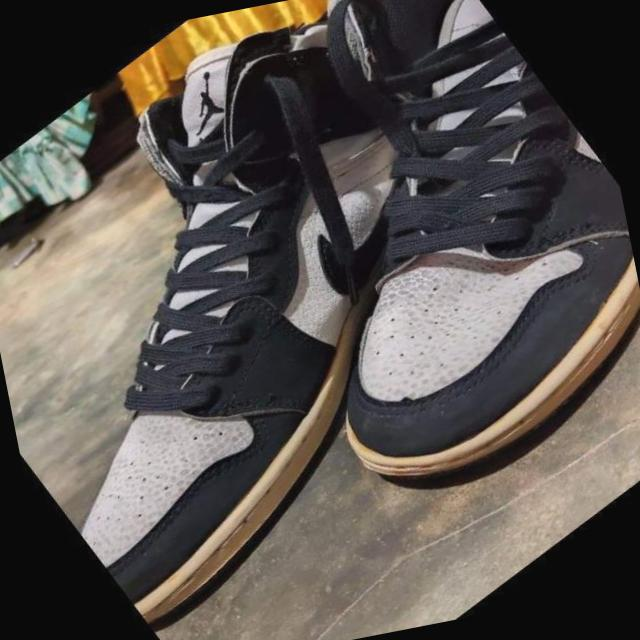nike_fake_jordan: (0, 0, 640, 640), (93, 0, 640, 573)
